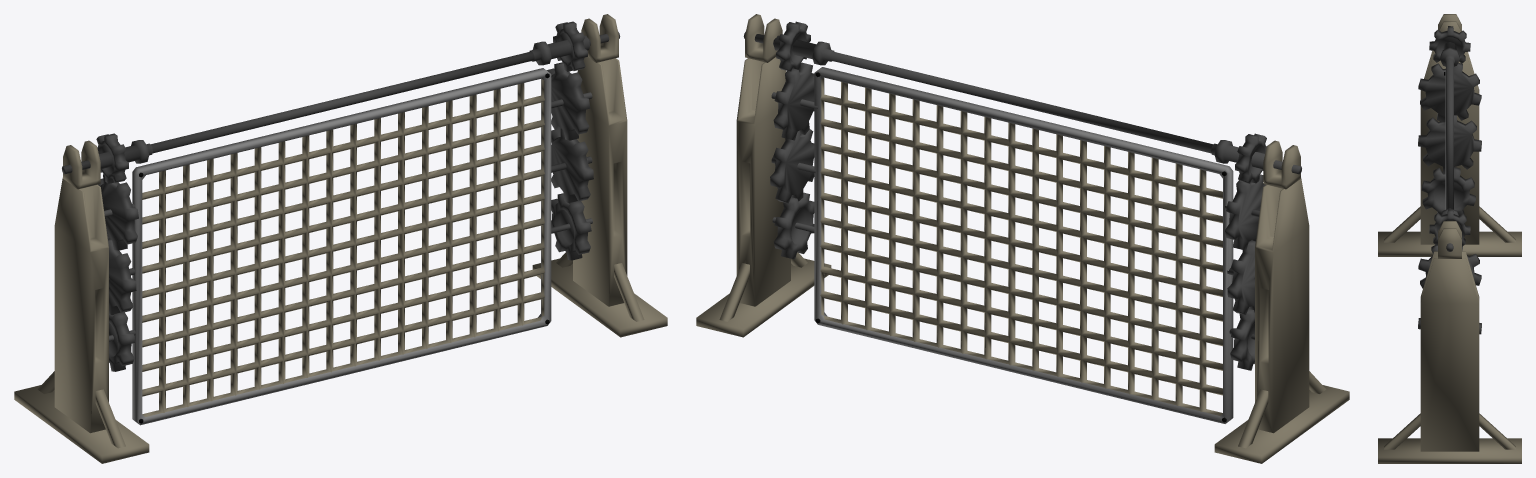
File: [poo]_St2_Grid_Sample.fbx
3 views of the same model, side by side, from view 1: azimuth 30°, elevation 25°; view 2: azimuth 150°, elevation 25°; view 3: azimuth 270°, elevation 25° (orthographic). The views are drawn at different scales.
Parts seen in each view (by area): view 1: Grid, Gear_Under_Frame, Frame, Gear_Frame_Base, Gear_1_Axis, Gear_2, Gear_3, Gear_4, Gear_Upper_Frame, Gear_1, Gear_Frame_Support; view 2: Grid, Gear_Under_Frame, Frame, Gear_Frame_Base, Gear_1_Axis, Gear_2, Gear_3, Gear_4, Gear_Upper_Frame, Gear_1, Gear_Frame_Support; view 3: Gear_Under_Frame, Gear_Frame_Base, Gear_2, Gear_3, Gear_Frame_Support, Gear_1_Axis, Gear_4, Gear_1, Gear_Upper_Frame.
Boxes of the visible parts, x1,y1,x2,y2 form: Grid: [142, 79, 544, 416]; Gear_Under_Frame: [54, 57, 627, 433]; Frame: [132, 68, 551, 425]; Gear_Frame_Base: [14, 258, 667, 463]; Gear_1_Axis: [62, 31, 620, 174]; Gear_2: [98, 62, 590, 250]; Gear_3: [108, 128, 593, 315]; Gear_4: [109, 193, 591, 371]; Gear_Upper_Frame: [63, 14, 618, 189]; Gear_1: [96, 21, 587, 183]; Gear_Frame_Support: [37, 252, 644, 448]; Grid: [820, 78, 1222, 415]; Gear_Under_Frame: [736, 57, 1309, 433]; Frame: [814, 67, 1233, 423]; Gear_Frame_Base: [696, 258, 1349, 463]; Gear_1_Axis: [743, 31, 1301, 174]; Gear_2: [773, 62, 1265, 250]; Gear_3: [770, 129, 1255, 314]; Gear_4: [774, 192, 1254, 370]; Gear_Upper_Frame: [745, 14, 1300, 189]; Gear_1: [776, 21, 1266, 183]; Gear_Frame_Support: [719, 252, 1326, 448]; Gear_Under_Frame: [1420, 50, 1479, 451]; Gear_Frame_Base: [1378, 231, 1521, 463]; Gear_2: [1418, 62, 1481, 288]; Gear_3: [1418, 115, 1481, 334]; Gear_Frame_Support: [1384, 206, 1515, 449]; Gear_1_Axis: [1440, 42, 1459, 251]; Gear_4: [1421, 167, 1475, 215]; Gear_1: [1429, 26, 1470, 246]; Gear_Upper_Frame: [1438, 14, 1461, 258].
Size of the model in its own units: 2233 by 1107 by 600.
